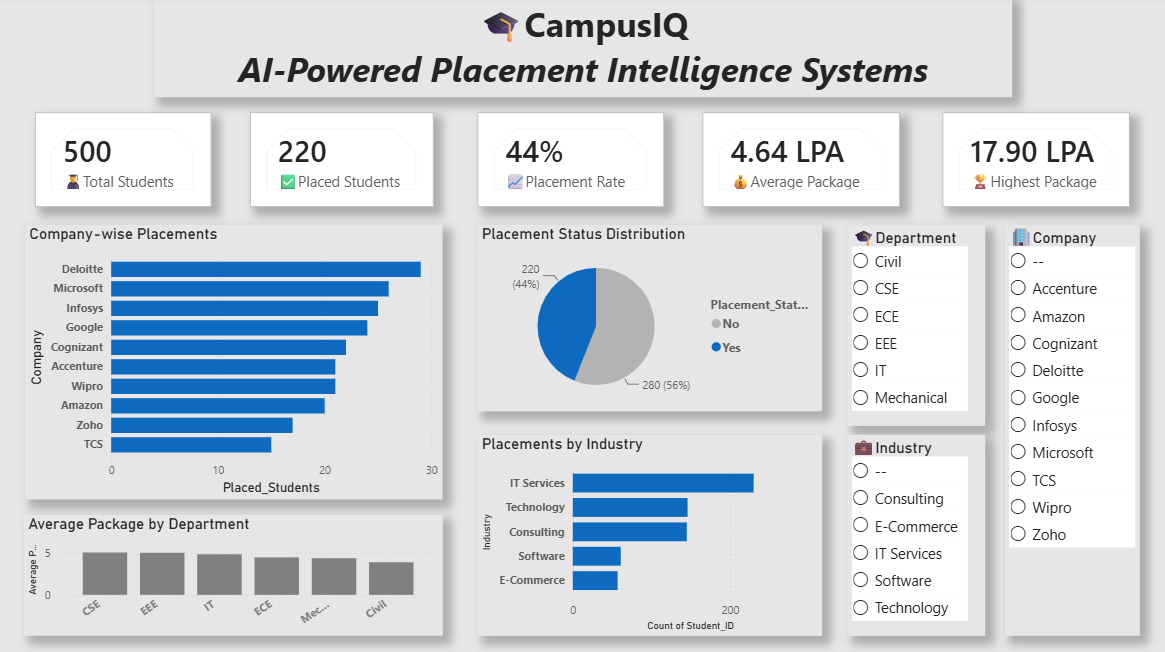

This screenshot's page, from the dashboard's own definition file:
{"tool":"powerbi","page":{"name":"Executive Dashboard","canvas":[1280,720],"ordinal":0},"visuals":[{"type":"textbox","box":[311.5,0,279.9,12.3],"z":0},{"type":"textbox","box":[168.8,0,942.7,111.1],"z":1000},{"type":"cardVisual","fields":{"Data":["Companies.Total Students"]},"box":[38.4,127.6,193.5,104.3],"z":2000},{"type":"cardVisual","fields":{"Data":["Companies.Placed_Students"]},"box":[274.4,127.6,201.7,104.3],"z":3000},{"type":"cardVisual","fields":{"Data":["Placements.Placement Rate"]},"box":[524.2,127.6,204.5,104.3],"z":4000},{"type":"cardVisual","fields":{"Data":["Companies.Average Package Display"]},"box":[771.2,127.6,216.8,104.3],"z":5000},{"type":"cardVisual","fields":{"Data":["Companies.Highest Package Display"]},"box":[1034.7,127.6,205.8,104.3],"z":6000},{"type":"clusteredBarChart","title":"Company-wise Placements","fields":{"Category":["Companies.Company"],"Y":["Companies.Placed_Students"]},"box":[27.4,251.1,458.3,301.9],"z":7000},{"type":"pieChart","title":"Placement Status Distribution","fields":{"Category":["Placements.Placement_Status"],"Y":["CountNonNull(Placements.Student_ID)"]},"box":[524.2,251.1,378.7,204.5],"z":8000},{"type":"clusteredColumnChart","fields":{"Category":["Students.Department"],"Y":["Companies.Average Package"]},"box":[26.1,569.5,459.7,133.1],"z":9000},{"type":"listSlicer","title":"🎓Department","fields":{"Values":["Students.Department"]},"box":[930.4,251.1,150.9,220.9],"z":10000},{"type":"listSlicer","title":"🏢Company","fields":{"Values":["Companies.Company"]},"box":[1103.3,251.1,148.2,451.5],"z":11000},{"type":"listSlicer","title":"💼Industry","fields":{"Values":["Companies.Industry"]},"box":[930.4,481.6,150.9,220.9],"z":12000},{"type":"clusteredBarChart","title":"Placements by Industry","fields":{"Y":["CountNonNull(Student_Certifications.Student_ID)"],"Category":["Companies.Industry"]},"box":[524.2,481.6,378.7,220.9],"z":13000}]}

Visuals, with their boxes in screenshot pixels (x1, y1, x2, y2), scaled from the page's 1280x720 canvas onto the 1165x652 screenshot:
textbox: (284, 0, 538, 11)
textbox: (154, 0, 1012, 101)
cardVisual - Companies.Total Students: (35, 116, 211, 210)
cardVisual - Companies.Placed_Students: (250, 116, 433, 210)
cardVisual - Placements.Placement Rate: (477, 116, 663, 210)
cardVisual - Companies.Average Package Display: (702, 116, 899, 210)
cardVisual - Companies.Highest Package Display: (942, 116, 1129, 210)
"Company-wise Placements" clusteredBarChart: (25, 227, 442, 501)
"Placement Status Distribution" pieChart: (477, 227, 822, 413)
clusteredColumnChart - Students.Department x Companies.Average Package: (24, 516, 442, 636)
"🎓Department" listSlicer: (847, 227, 984, 427)
"🏢Company" listSlicer: (1004, 227, 1139, 636)
"💼Industry" listSlicer: (847, 436, 984, 636)
"Placements by Industry" clusteredBarChart: (477, 436, 822, 636)
